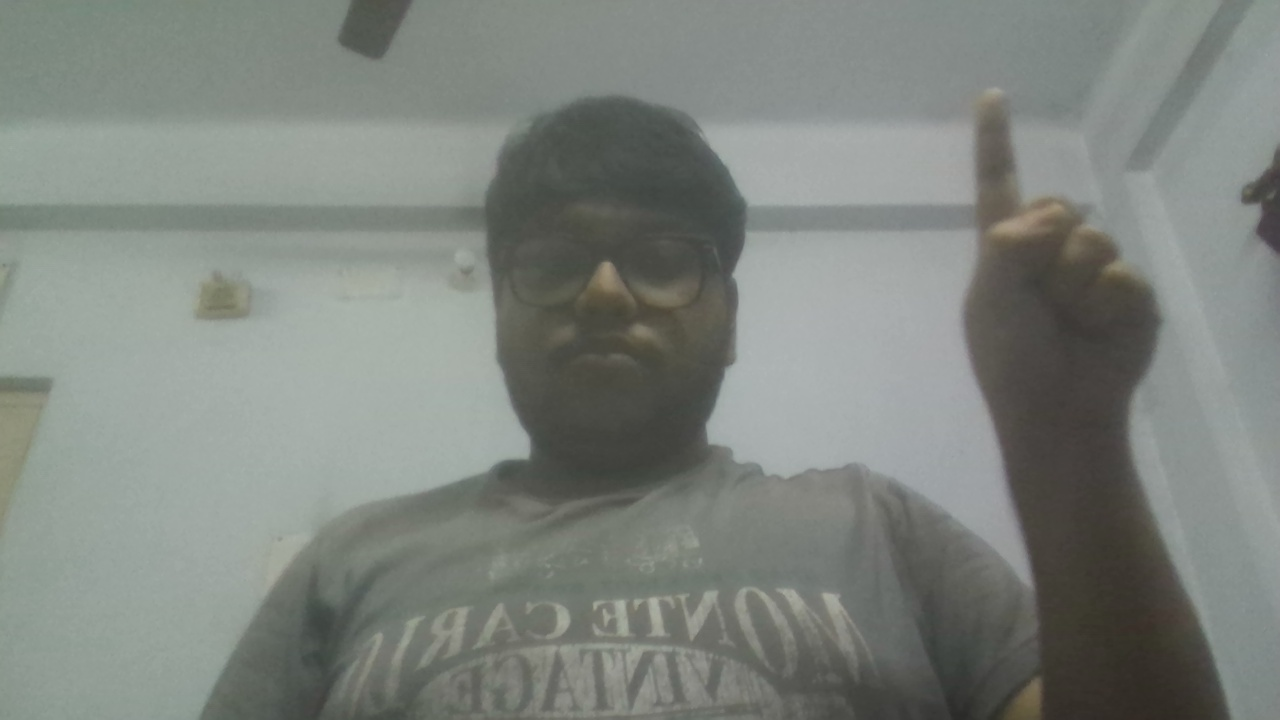Gesture1: (948, 78, 1183, 468)
